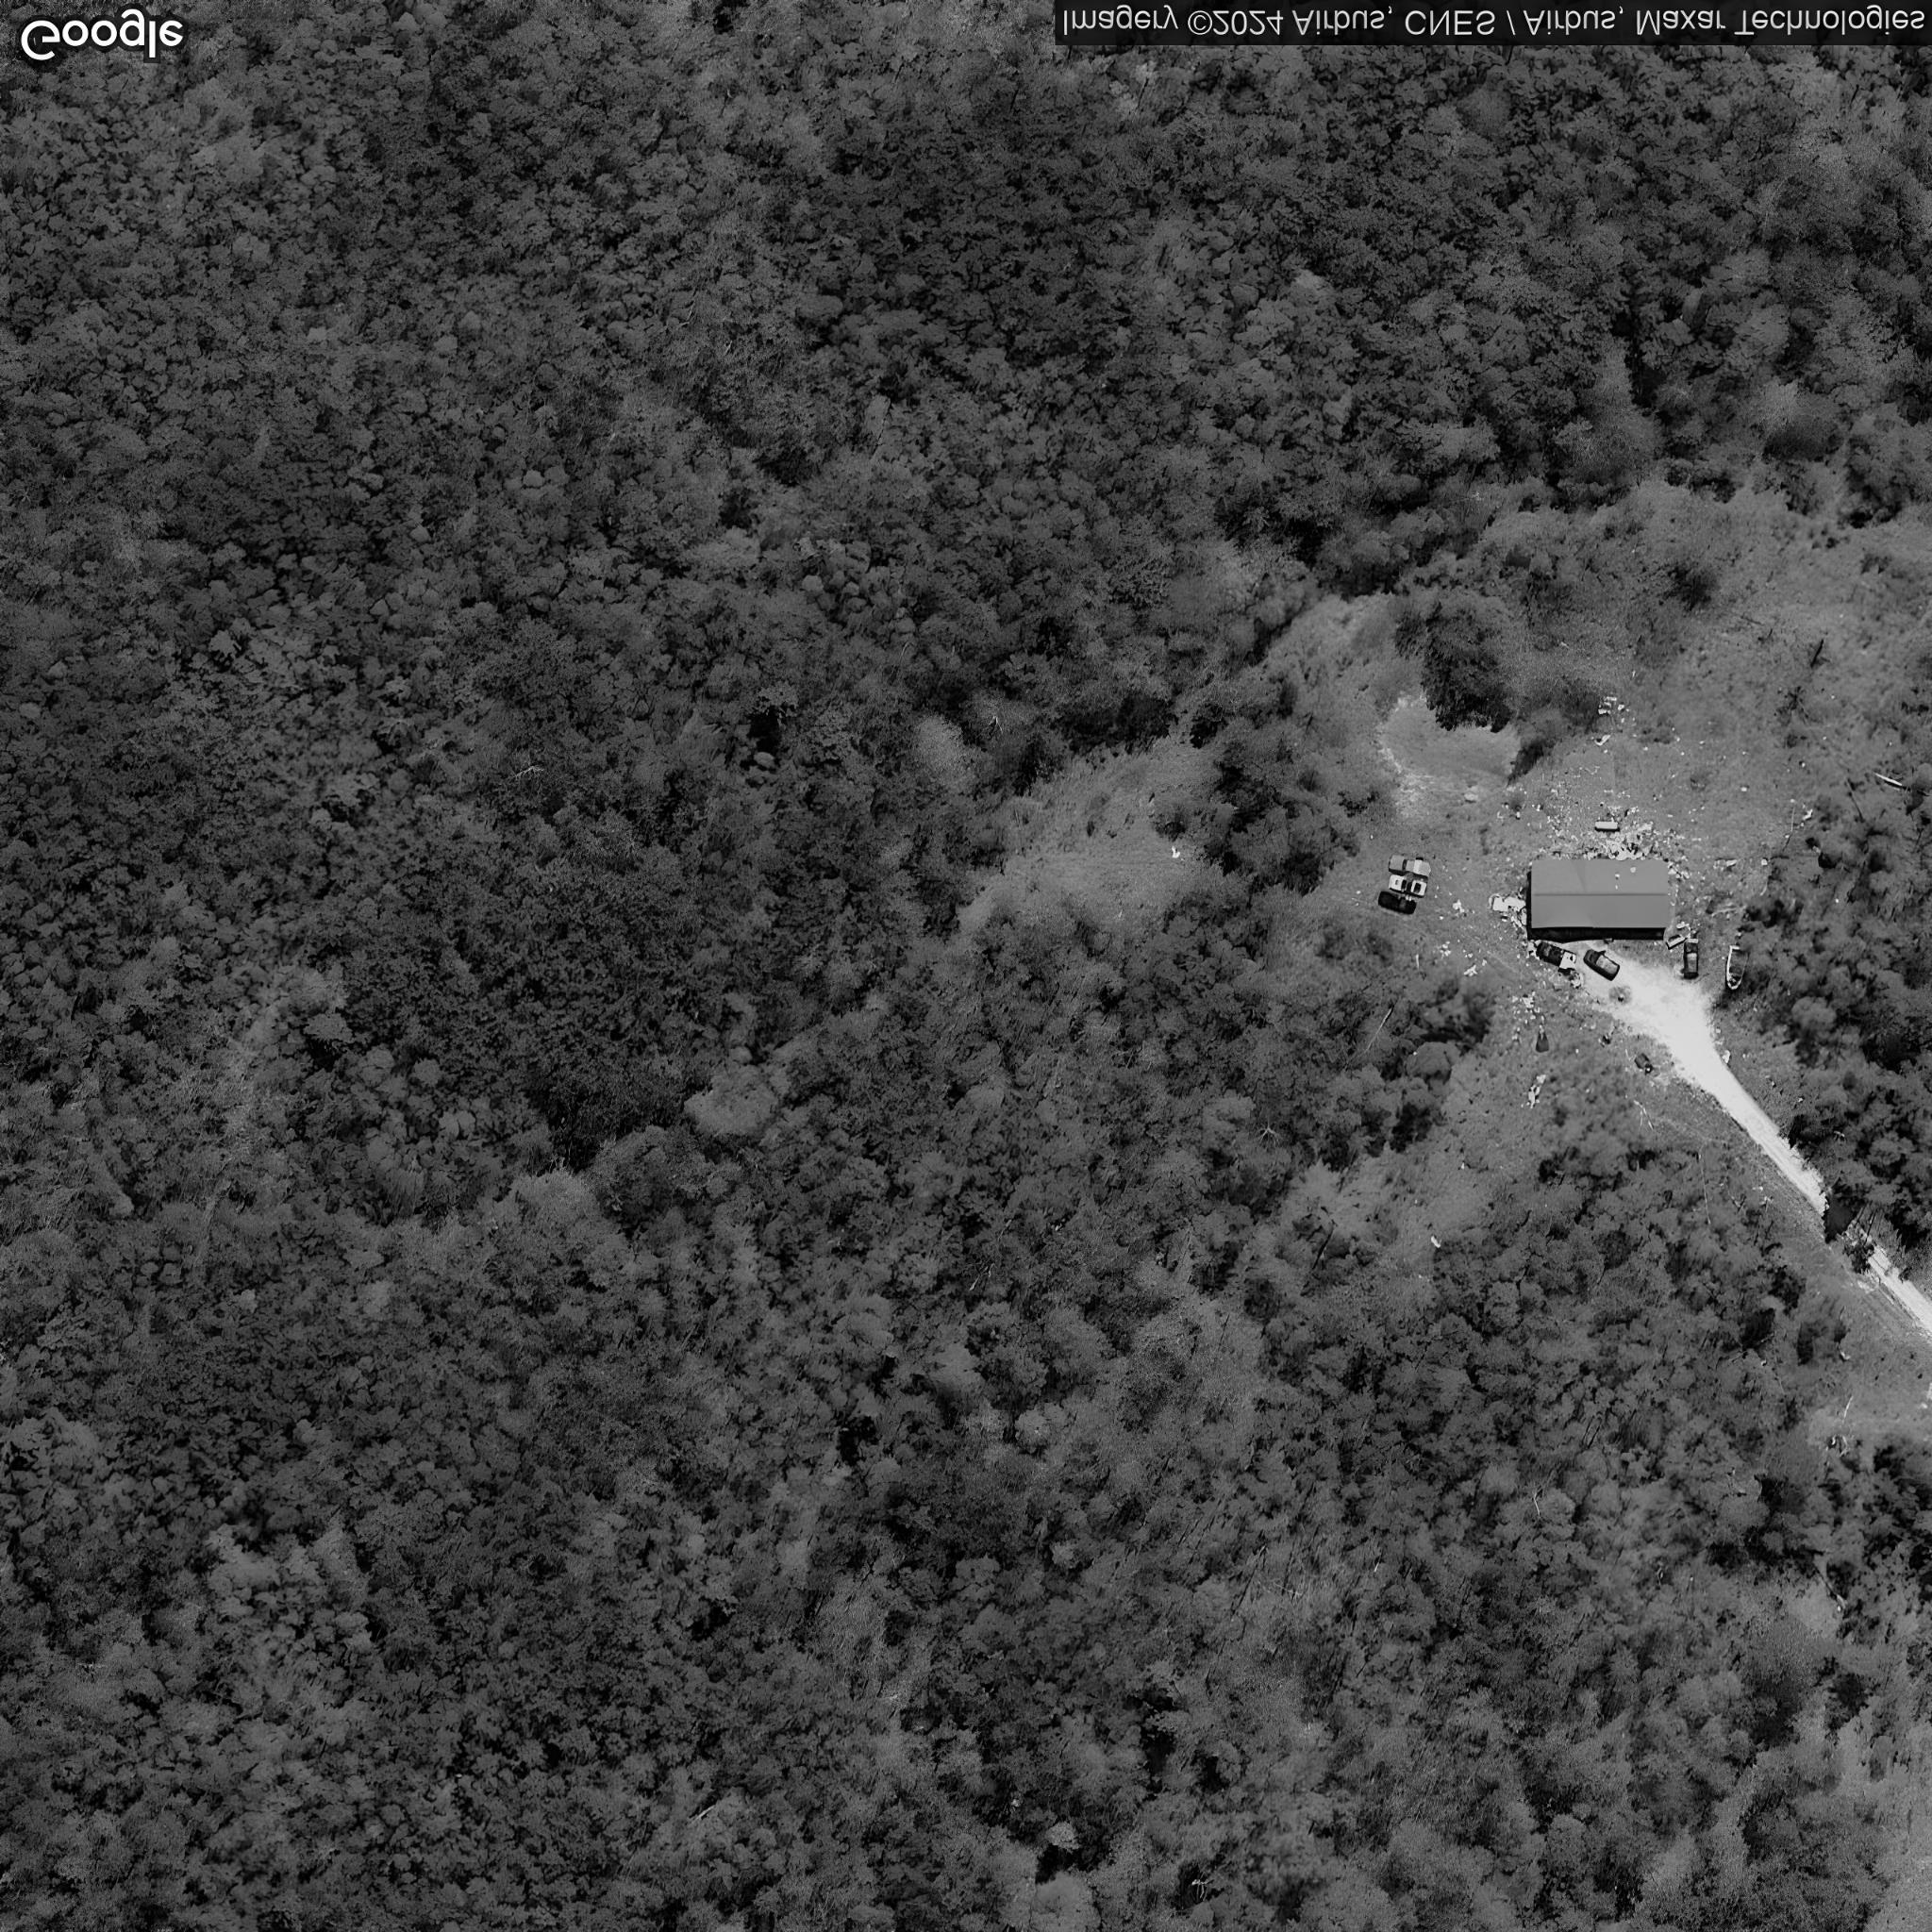House: (1529, 856, 1672, 931)
Propane: (1592, 819, 1624, 832)
